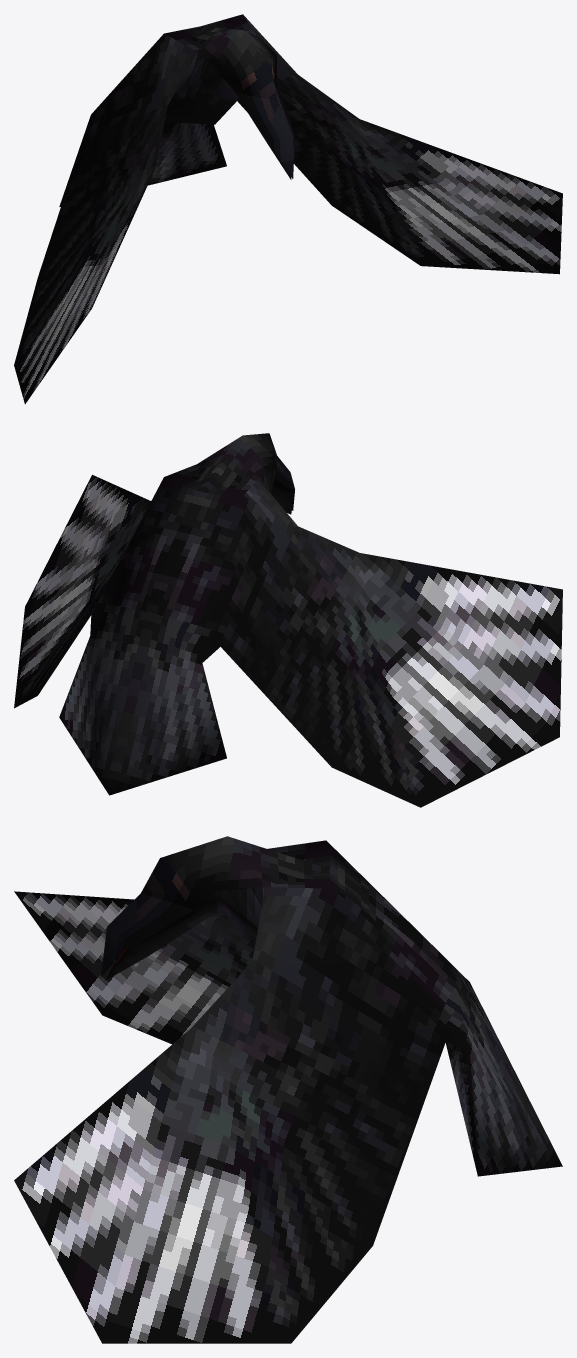
Rendered from raven_base.glb.
3 views of the same model, one above another, from view 1: azimuth 30°, elevation 25°; view 2: azimuth 150°, elevation 25°; view 3: azimuth 270°, elevation 25° (orthographic). The views are drawn at different scales.
Visible parts, largest first — view 1: MeshRoot; view 2: MeshRoot; view 3: MeshRoot.
Boxes of the visible parts, x1,y1,x2,y2 form: MeshRoot: (14,14,562,404); MeshRoot: (14,433,562,807); MeshRoot: (14,836,562,1343).
Bounding box in the file's own units: 1.89 × 1.03 × 1.34.
2 materials, 2 textured.
